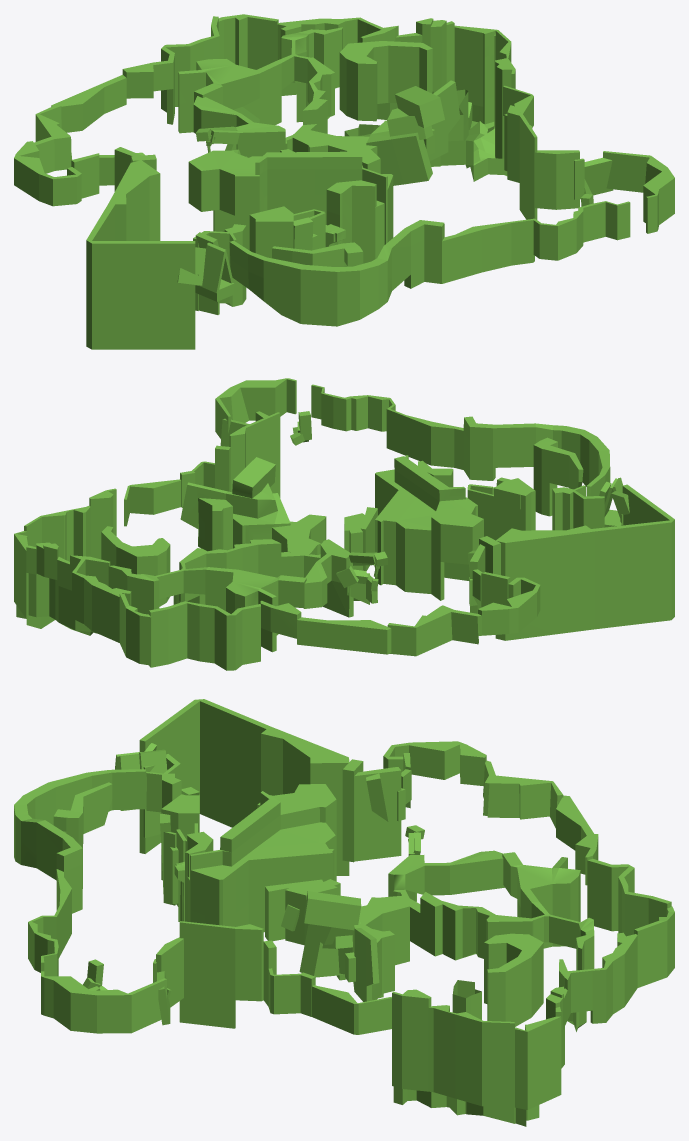
The model's file is Grot_Walls.fbx.
The picture shows the model from 3 angles, top to bottom: view 1: azimuth 30°, elevation 25°; view 2: azimuth 150°, elevation 25°; view 3: azimuth 270°, elevation 25°; orthographic projection. The views are drawn at different scales.
Parts seen in each view (by area): view 1: WallFrintalRight, WallFrintalLeft, WallMidLow, WallInner, WallButtBack, WallCouldron, WallInner.001, WallInner.002, DepthCouldron, WallSide, WallTidbits; view 2: WallFrintalLeft, WallButtBack, WallFrintalRight, WallMidLow, WallInner, WallCouldron, WallInner.001, WallSide, WallTidbits, DepthCouldron, WallInner.002, RubbleCluster; view 3: WallCouldron, WallFrintalRight, WallButtBack, WallFrintalLeft, WallMidLow, WallInner, WallSide, WallInner.001, WallInner.002, DepthCouldron, WallTidbits.
Part boxes in pixels (x1,y1,x2,y2): WallFrintalRight: [229, 150, 674, 326]; WallFrintalLeft: [86, 160, 246, 349]; WallMidLow: [188, 149, 393, 263]; WallInner: [178, 27, 342, 157]; WallButtBack: [14, 16, 219, 206]; WallCouldron: [218, 14, 515, 157]; WallInner.001: [292, 80, 460, 185]; WallInner.002: [339, 41, 432, 121]; DepthCouldron: [296, 49, 507, 181]; WallSide: [503, 85, 537, 219]; WallTidbits: [196, 126, 246, 156]; WallFrintalLeft: [495, 477, 674, 640]; WallButtBack: [149, 536, 540, 670]; WallFrintalRight: [215, 378, 610, 516]; WallMidLow: [375, 455, 535, 600]; WallInner: [108, 539, 353, 652]; WallCouldron: [14, 488, 151, 665]; WallInner.001: [180, 457, 326, 554]; WallSide: [124, 412, 280, 526]; WallTidbits: [336, 507, 387, 604]; DepthCouldron: [16, 573, 205, 635]; WallInner.002: [101, 526, 170, 606]; RubbleCluster: [290, 411, 311, 445]; WallCouldron: [392, 906, 674, 1109]; WallFrintalRight: [14, 769, 183, 1033]; WallButtBack: [342, 741, 671, 936]; WallFrintalLeft: [115, 699, 349, 875]; WallMidLow: [160, 784, 336, 932]; WallInner: [388, 850, 594, 970]; WallSide: [179, 921, 391, 1034]; WallInner.001: [299, 891, 409, 1001]; WallInner.002: [484, 933, 543, 1026]; DepthCouldron: [393, 980, 586, 1126]; WallTidbits: [265, 825, 424, 945].
Size of the model in its own units: 10571 by 2600 by 10117.
